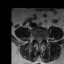CCS_normal: (38, 38, 40, 46)
LFS_severe_stenosis: (42, 37, 44, 42)
LLS_stenosis: (40, 38, 42, 43)
RFS_stenosis: (35, 36, 37, 42)
RLS_stenosis: (37, 38, 38, 43)
